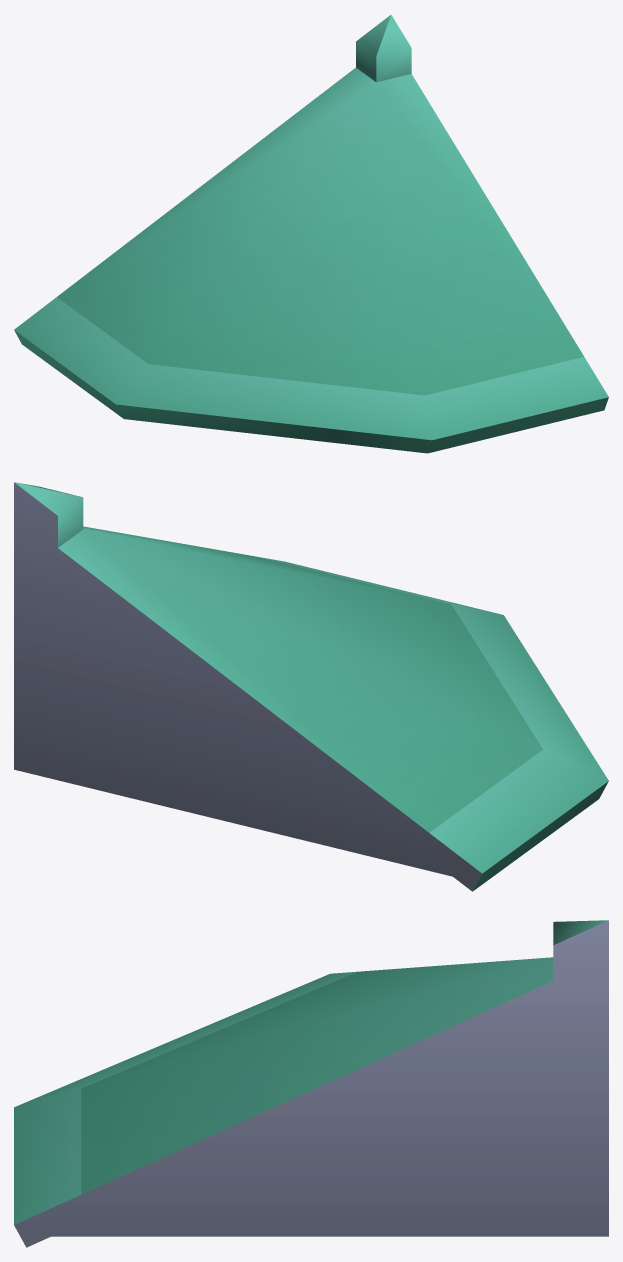
File: roof-corner-round.glb
3 renders of one model, top to bottom at view 1: azimuth 30°, elevation 25°; view 2: azimuth 150°, elevation 25°; view 3: azimuth 270°, elevation 25°, orthographic. The views are drawn at different scales.
Parts seen in each view (by area): view 1: roof-corner-round; view 2: roof-corner-round; view 3: roof-corner-round.
Part boxes in pixels (x1,y1,x2,y2): roof-corner-round: (14,15,608,453); roof-corner-round: (14,482,608,891); roof-corner-round: (14,920,608,1247).
Size of the model in its own units: 1.07 by 0.6483 by 1.07.
1 material, 1 textured.
